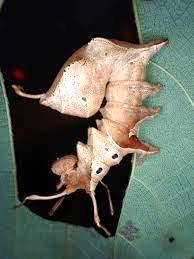Lobster Moth: (19, 35, 169, 206)
